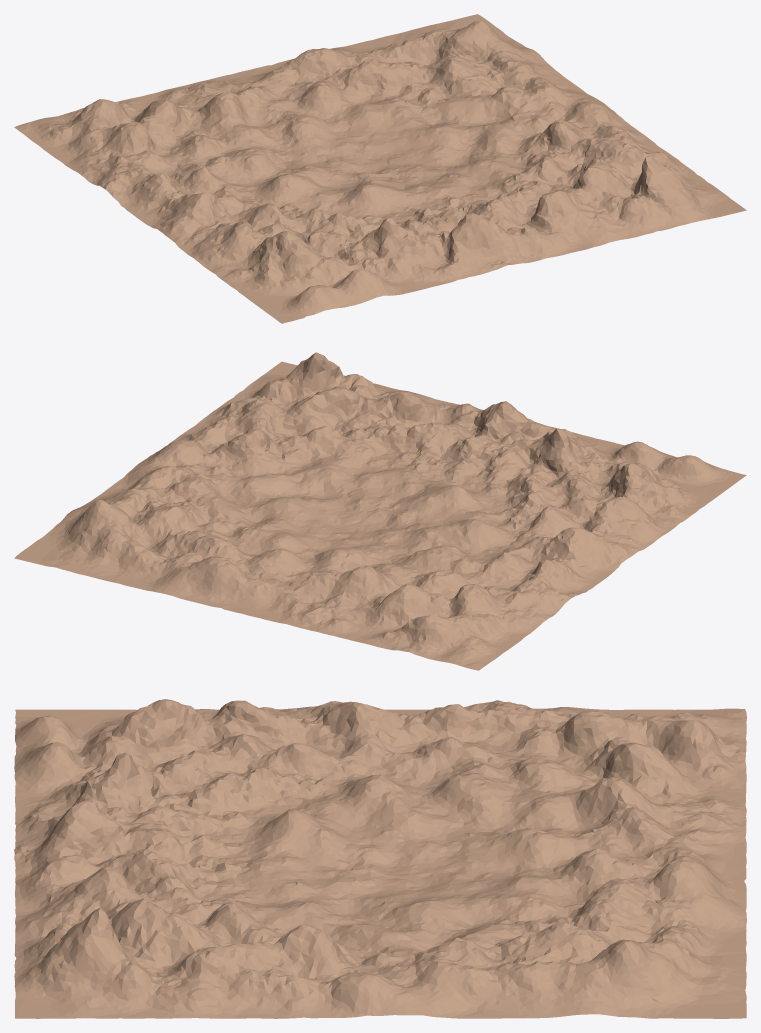
Rendered from ZLP_Terrain_A_3.FBX.
3 renders of one model, top to bottom at view 1: azimuth 30°, elevation 25°; view 2: azimuth 150°, elevation 25°; view 3: azimuth 270°, elevation 25°, orthographic. The views are drawn at different scales.
Parts seen in each view (by area): view 1: ZLP_Terrain_A_3; view 2: ZLP_Terrain_A_3; view 3: ZLP_Terrain_A_3.
Part boxes in pixels (left/top/right/bottom): ZLP_Terrain_A_3: left=14, top=14, right=746, bottom=323; ZLP_Terrain_A_3: left=14, top=352, right=746, bottom=670; ZLP_Terrain_A_3: left=14, top=699, right=746, bottom=1018.
Bounding box in the file's own units: 210796 × 22857 × 210673.
